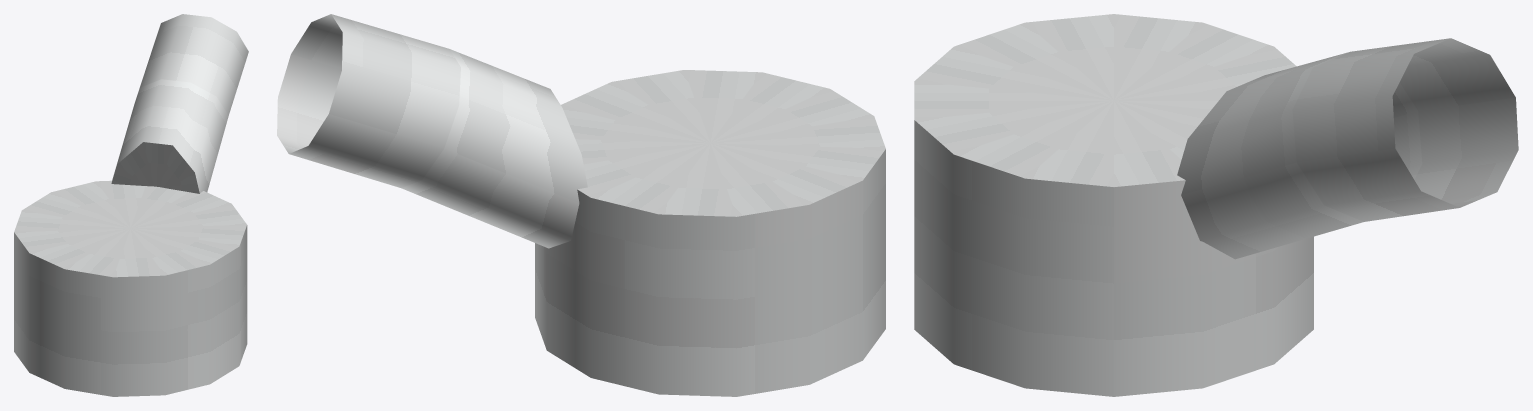
The model's file is nycsignalarm_diagonal8_c1.obj.
3 views of the same model, side by side, from view 1: azimuth 30°, elevation 25°; view 2: azimuth 150°, elevation 25°; view 3: azimuth 270°, elevation 25° (orthographic). The views are drawn at different scales.
Visible parts, largest first — view 1: nycsignalarm_diagonal8_c1; view 2: nycsignalarm_diagonal8_c1; view 3: nycsignalarm_diagonal8_c1.
Boxes of the visible parts, x1,y1,x2,y2 form: nycsignalarm_diagonal8_c1: [14, 14, 248, 396]; nycsignalarm_diagonal8_c1: [277, 14, 885, 396]; nycsignalarm_diagonal8_c1: [914, 14, 1518, 396].
Bounding box in the file's own units: 1.22 × 0.8795 × 1.21.
